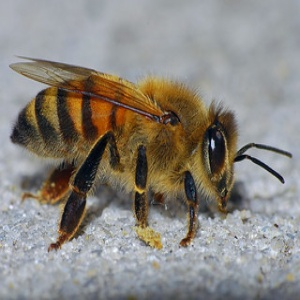bee: (5, 50, 294, 254)
